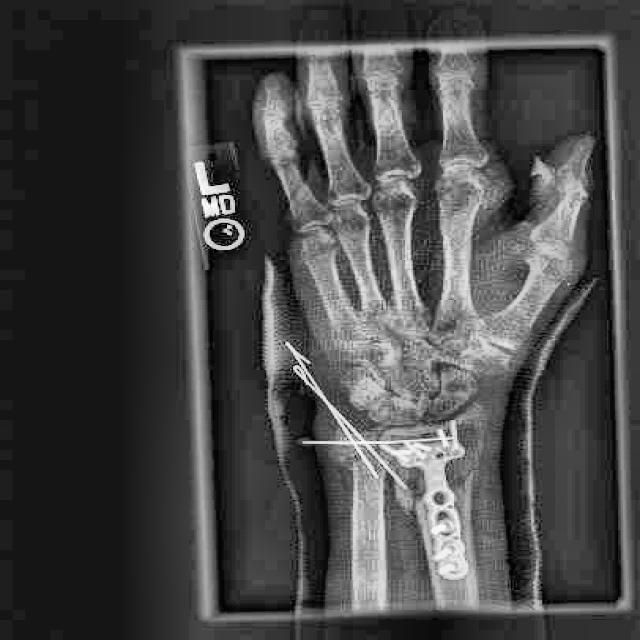wrist positive: (326, 407, 491, 525)
